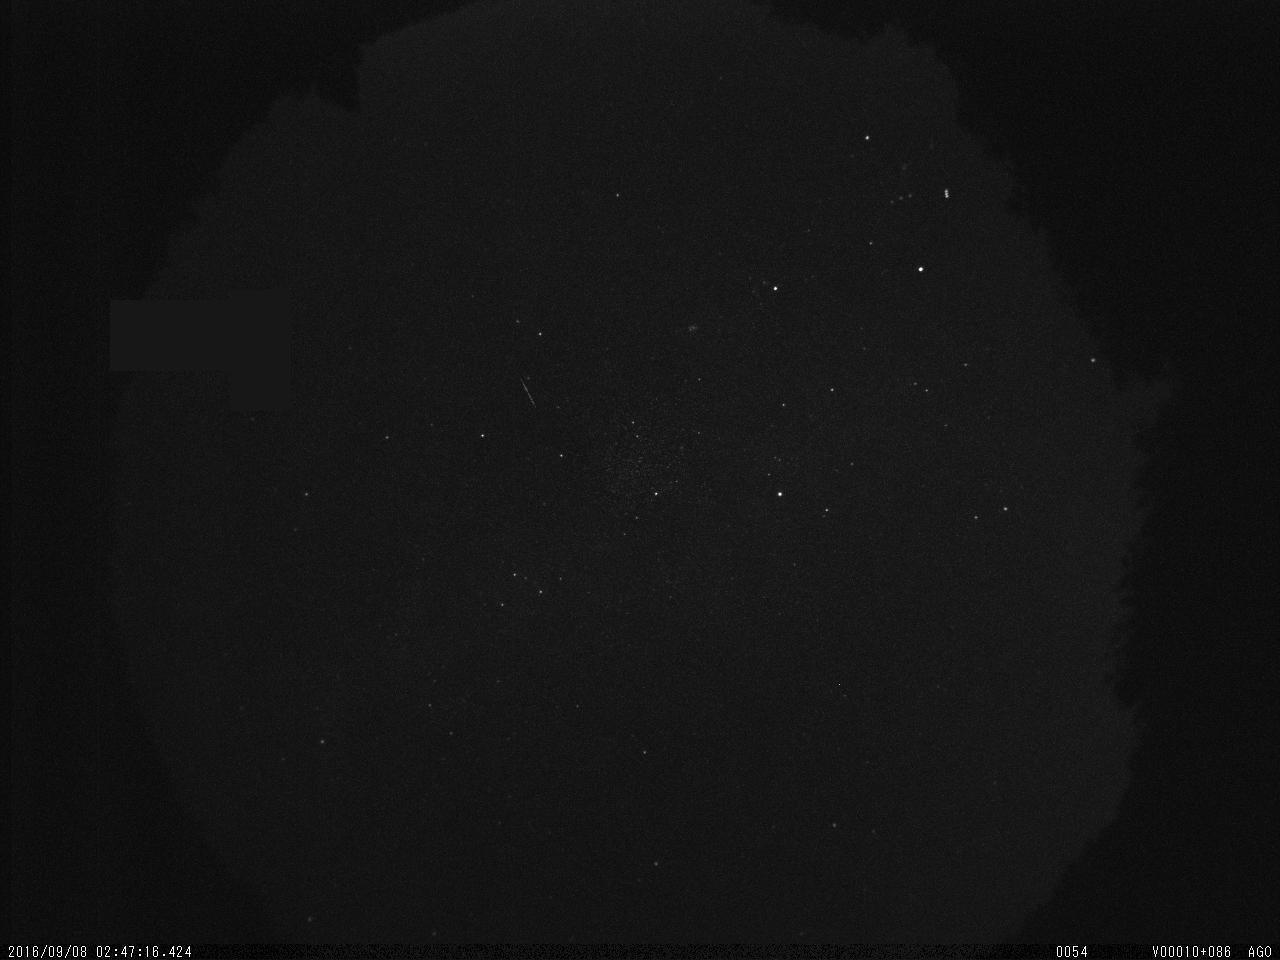Meteor: (515, 371, 540, 411)
